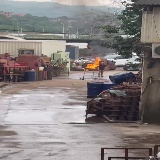fire: (85, 57, 101, 68)
